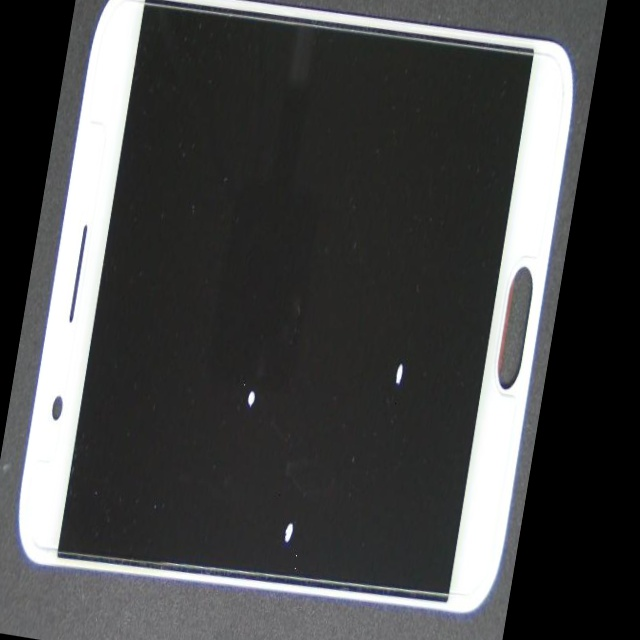stain: (172, 75, 586, 585), (88, 109, 398, 638), (110, 232, 456, 640)
